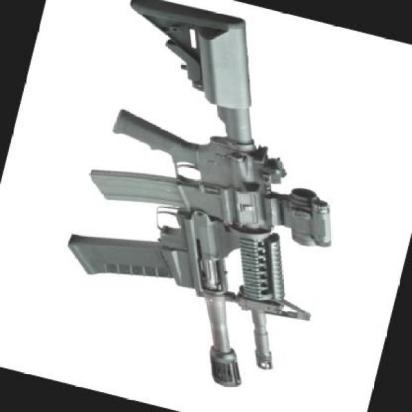Gun: (18, 0, 406, 405)
